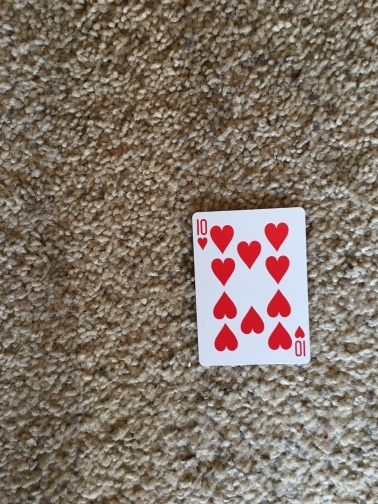ten: (192, 211, 311, 363)
